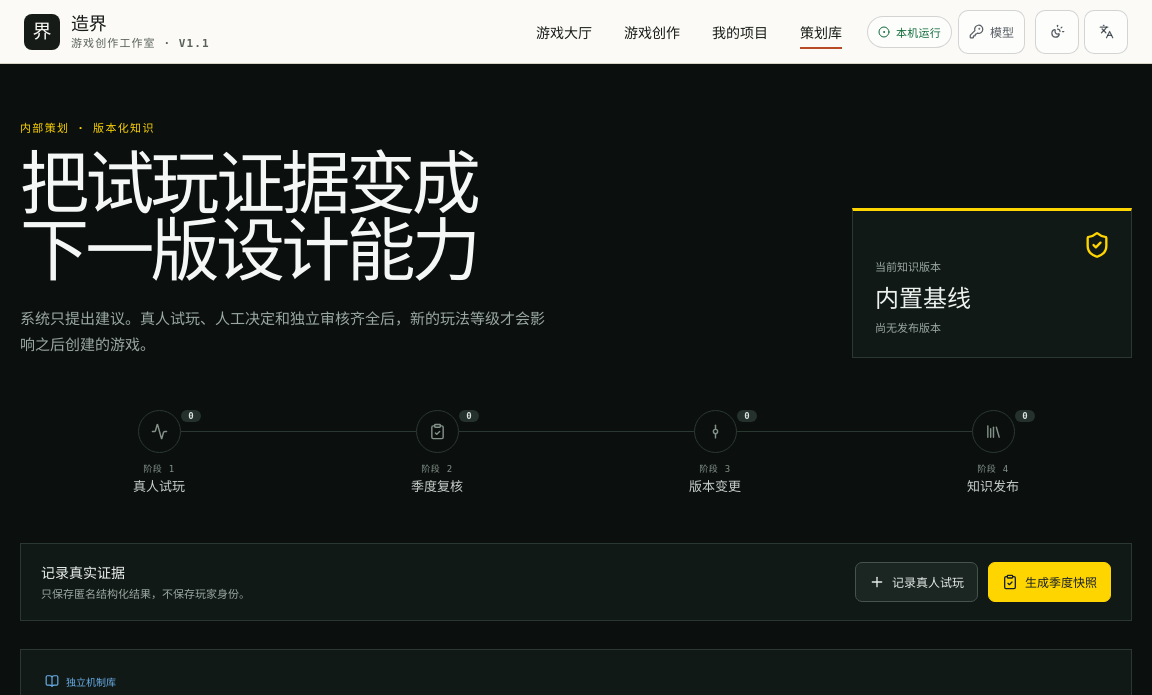
策划知识发布台 › 用四阶段证据轨道组织工作，并能直接展开结构化试玩
Expected: the heading "把试玩证据变成下一版设计能力" is shown, [20,134,477,296]
Expected: the list named "知识更新流程" shows "真人试玩", [133,477,185,495]
Click the button "记录真人试玩". click: (916, 582)
box: [855,562,978,602]
(page scrolled)
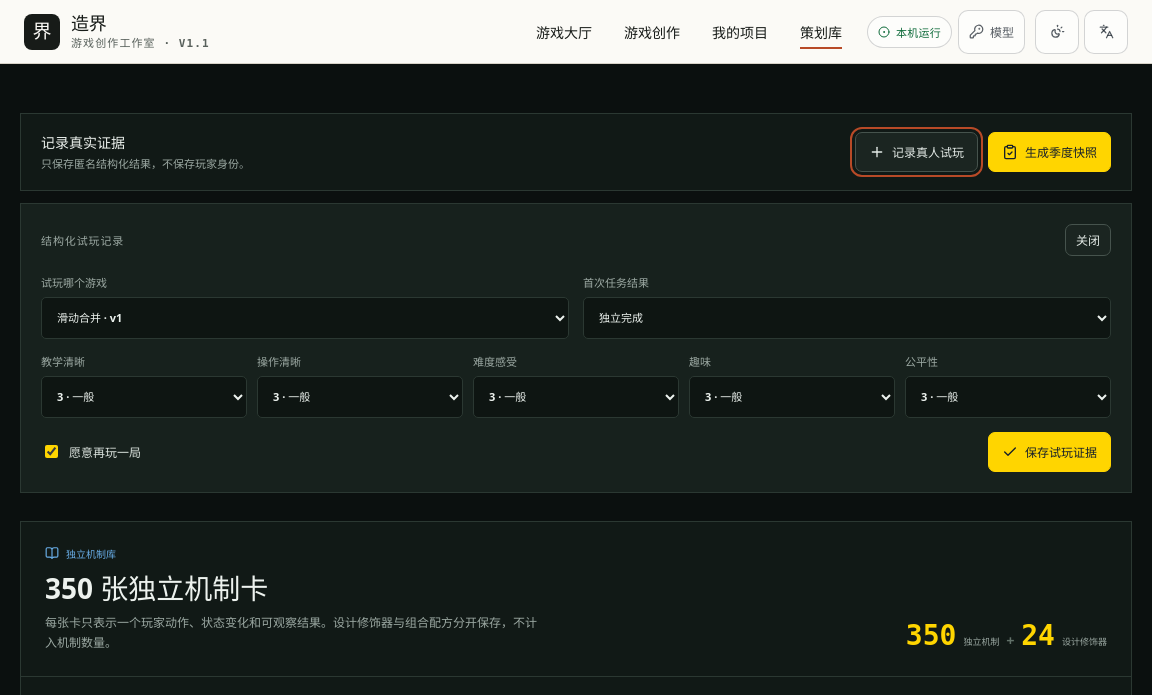
Now the text "结构化试玩记录" is shown, box [41,232,124,248]
Now the text "教学清晰" is shown, box [41,354,85,369]
Now the text "公平性" is shown, box [905,354,938,369]
